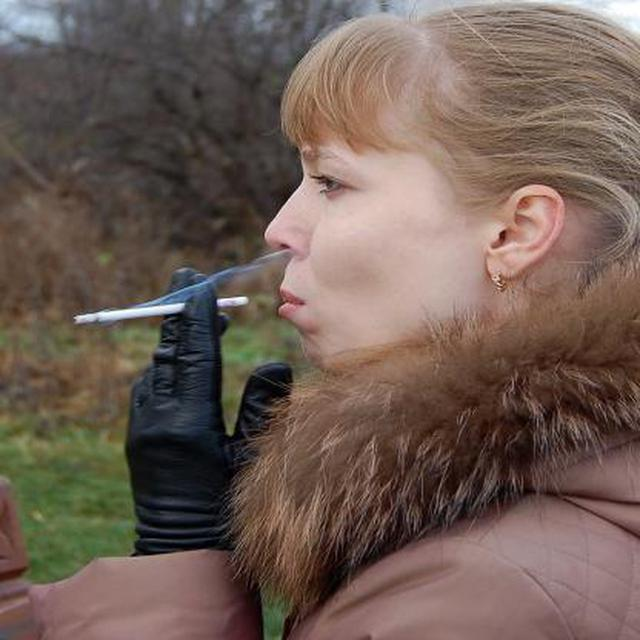smoking: (66, 293, 261, 327)
